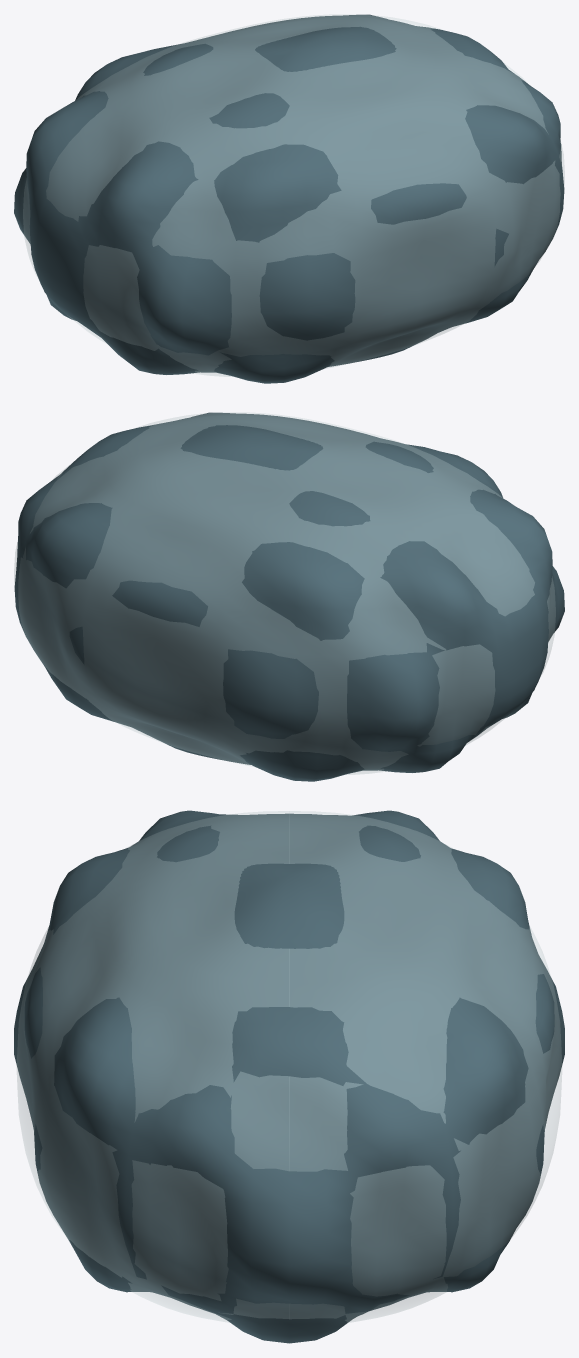
The picture shows the model from 3 angles, top to bottom: view 1: azimuth 30°, elevation 25°; view 2: azimuth 150°, elevation 25°; view 3: azimuth 270°, elevation 25°; orthographic projection. The views are drawn at different scales.
Parts seen in each view (by area): view 1: stone-7, wet-film; view 2: stone-7, wet-film; view 3: stone-7, wet-film.
Part boxes in pixels (x1,y1,x2,y2): stone-7: (14,14,564,383); wet-film: (23,14,564,376); stone-7: (14,412,564,781); wet-film: (14,412,555,774); stone-7: (14,810,564,1343); wet-film: (17,811,561,1322).
Size of the model in its own units: 1.8 by 0.9899 by 1.28.
